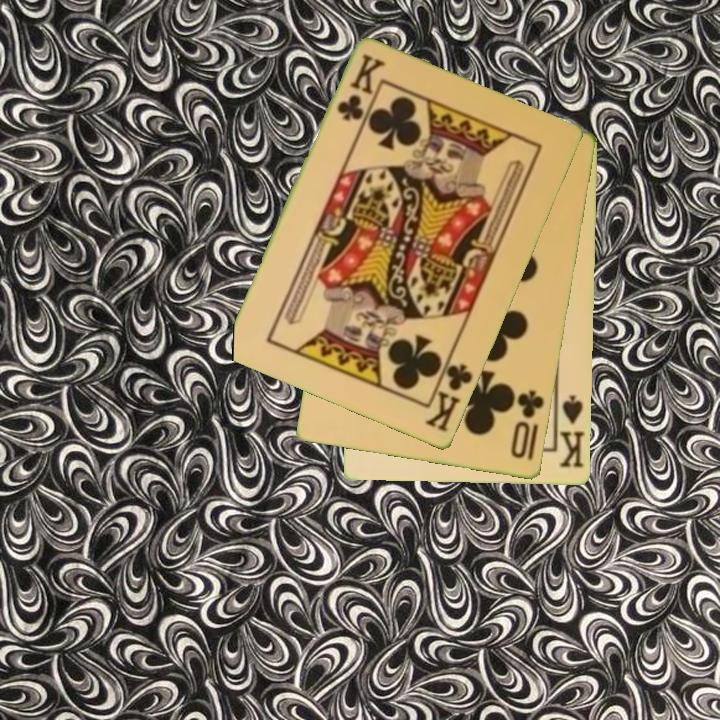10c: (507, 387, 547, 462)
Kc: (421, 352, 476, 436), (334, 51, 386, 124)
Ks: (553, 391, 588, 471)
